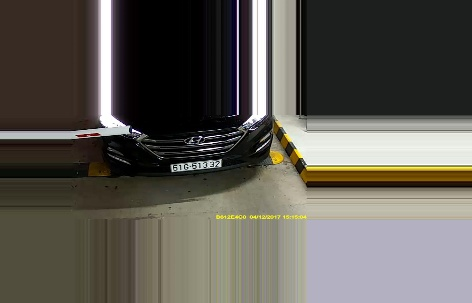plate: (167, 155, 226, 173)
